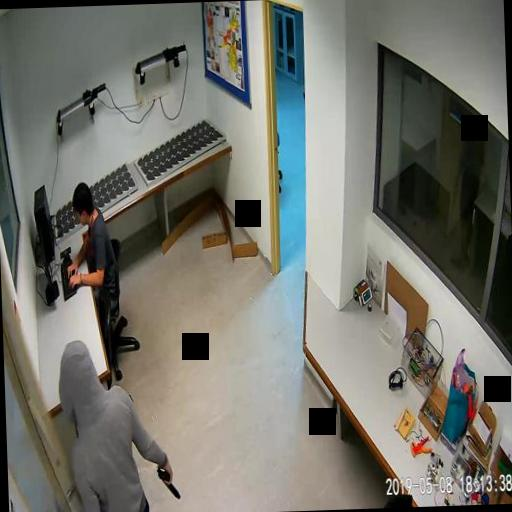Handgun: (155, 456, 180, 498)
